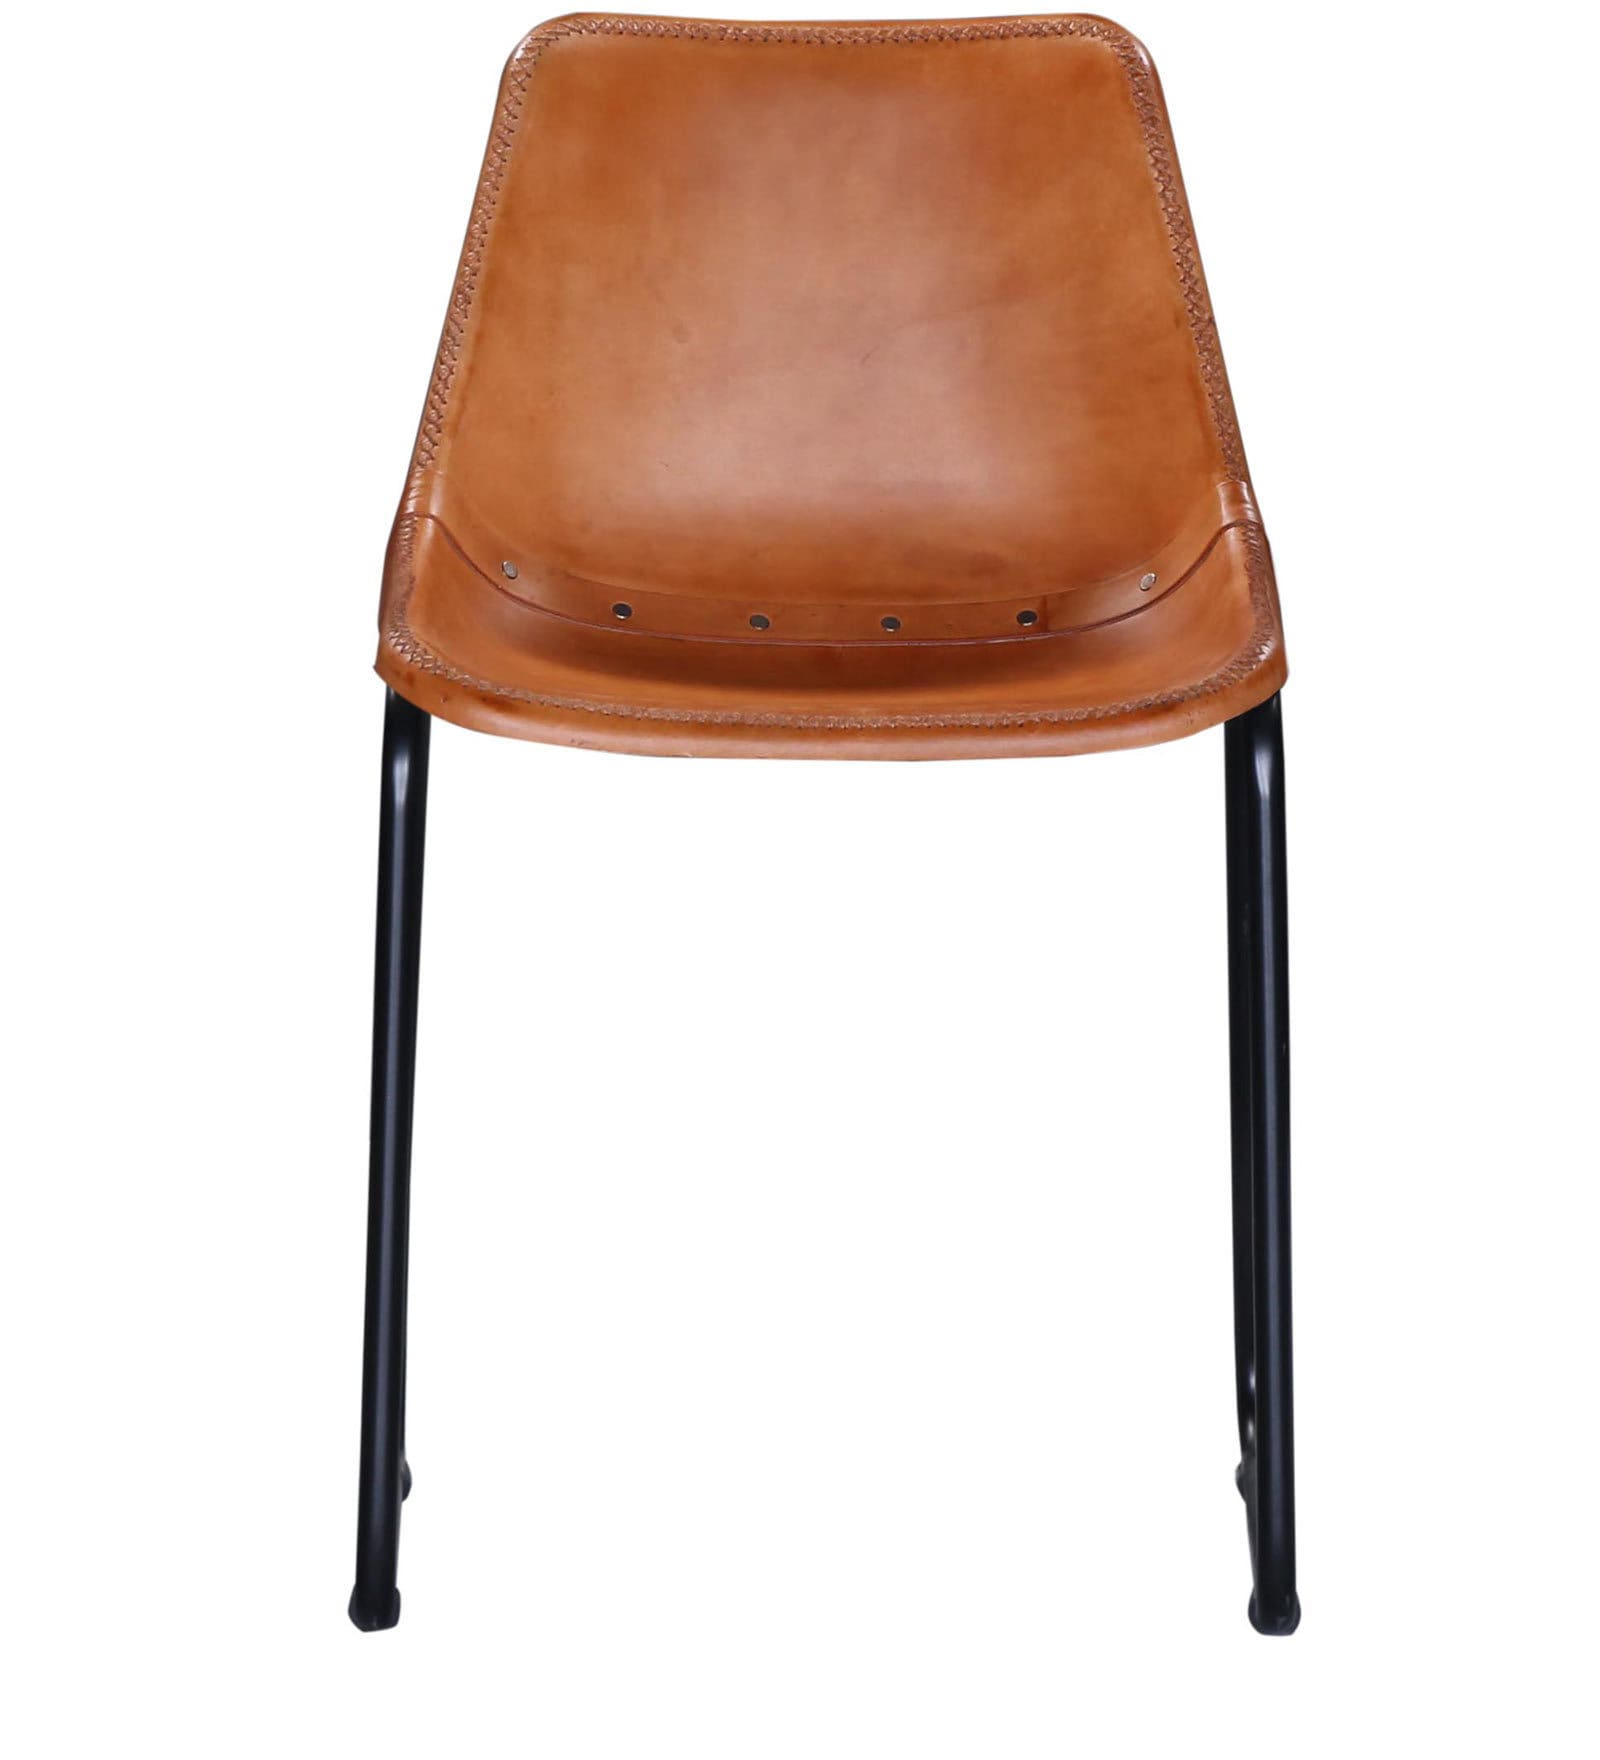Medina Natural Color Leather Accent Chair by Bohemiana: (352, 12, 1324, 1640)
